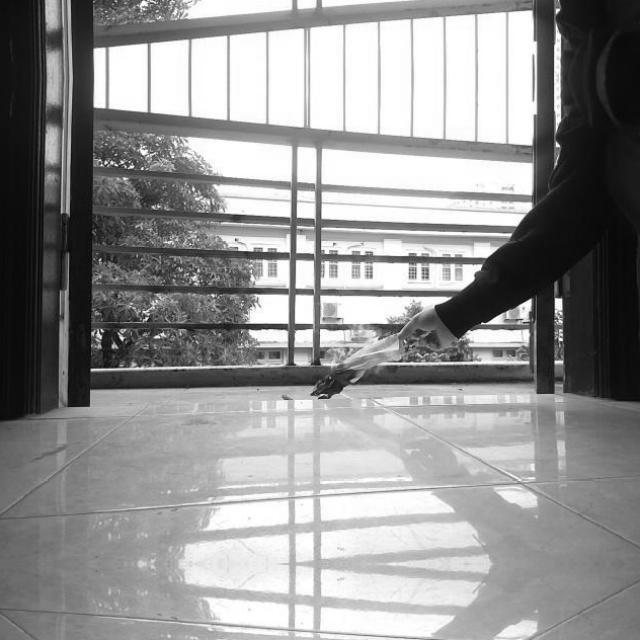smoke: (328, 346, 353, 384)
